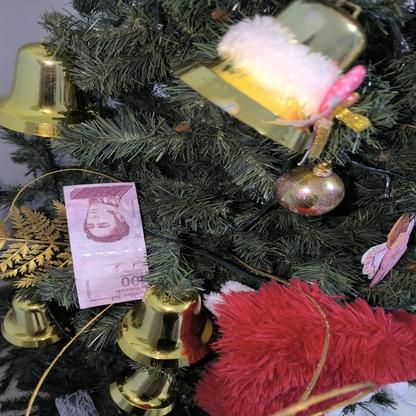one_hundred-front-vef: (61, 181, 150, 310)
